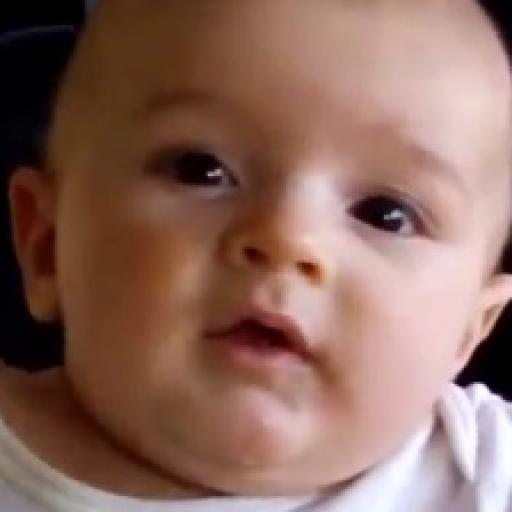Autism: (45, 29, 509, 512)
